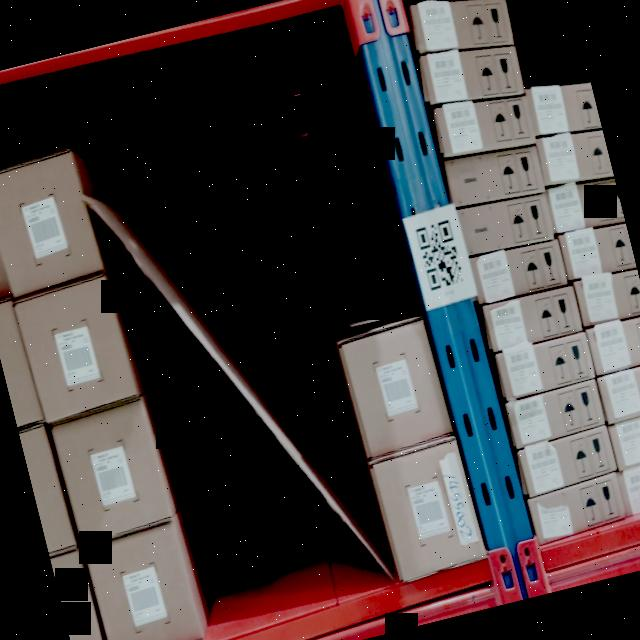box: (52, 400, 172, 544), (17, 281, 137, 418), (372, 440, 485, 580), (0, 151, 101, 296), (342, 324, 454, 453), (84, 530, 202, 640), (528, 474, 628, 544), (482, 286, 582, 352), (495, 334, 595, 398), (506, 384, 604, 447), (422, 46, 526, 105), (435, 96, 535, 156), (518, 431, 616, 491), (471, 241, 566, 302), (459, 194, 552, 255), (448, 147, 542, 207), (411, 0, 513, 54)
